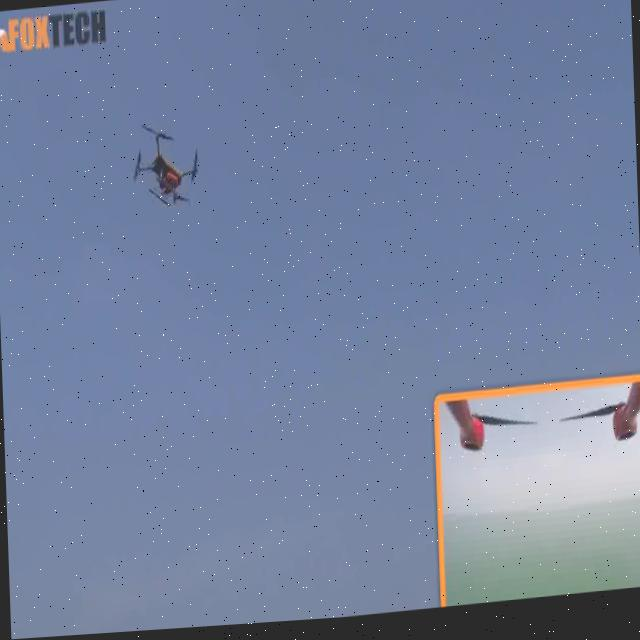drone: (120, 123, 212, 217)
